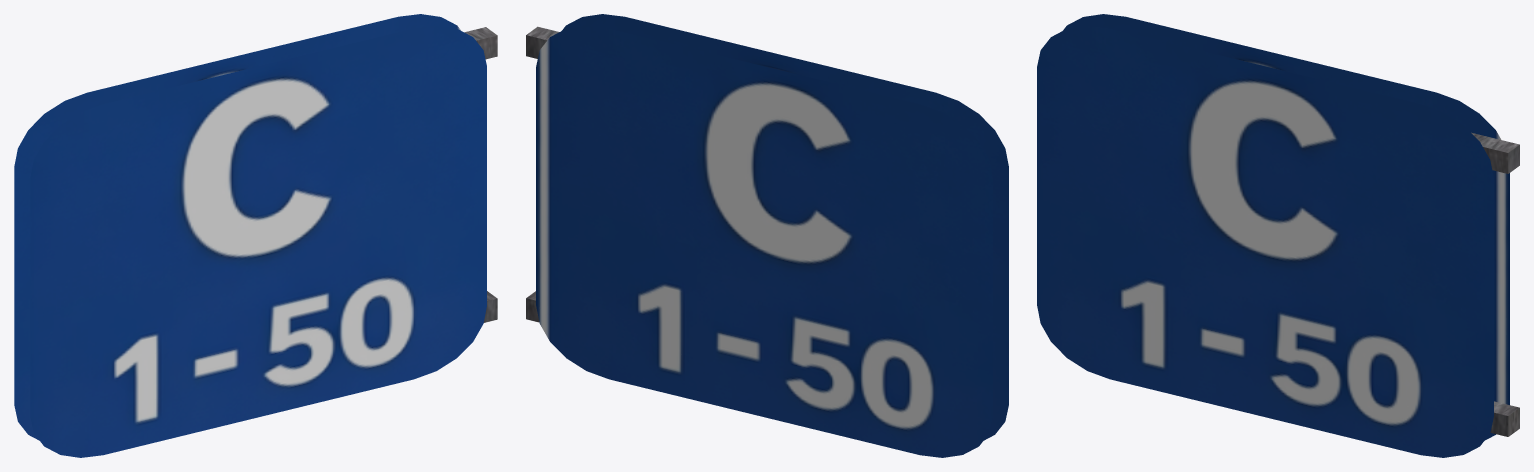
Rendered from skilt C 1-50.fbx.
3 renders of one model, left to right at view 1: azimuth 30°, elevation 25°; view 2: azimuth 150°, elevation 25°; view 3: azimuth 330°, elevation 25°, orthographic.
Visible parts, largest first — view 1: Cube; view 2: Cube; view 3: Cube.
Part boxes in pixels (box(x1,y1,x2,y2)): Cube: box(14, 14, 497, 457); Cube: box(526, 14, 1008, 457); Cube: box(1037, 14, 1519, 457).
Size of the model in its own units: 0.9334 by 0.667 by 0.055.
Materials: 2 (2 with a texture image).
